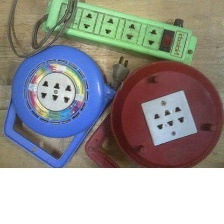three_eye_plug: (115, 56, 222, 164), (37, 0, 199, 71), (3, 39, 111, 143)
